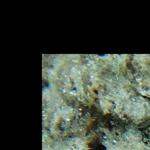dead: (41, 53, 149, 148)
